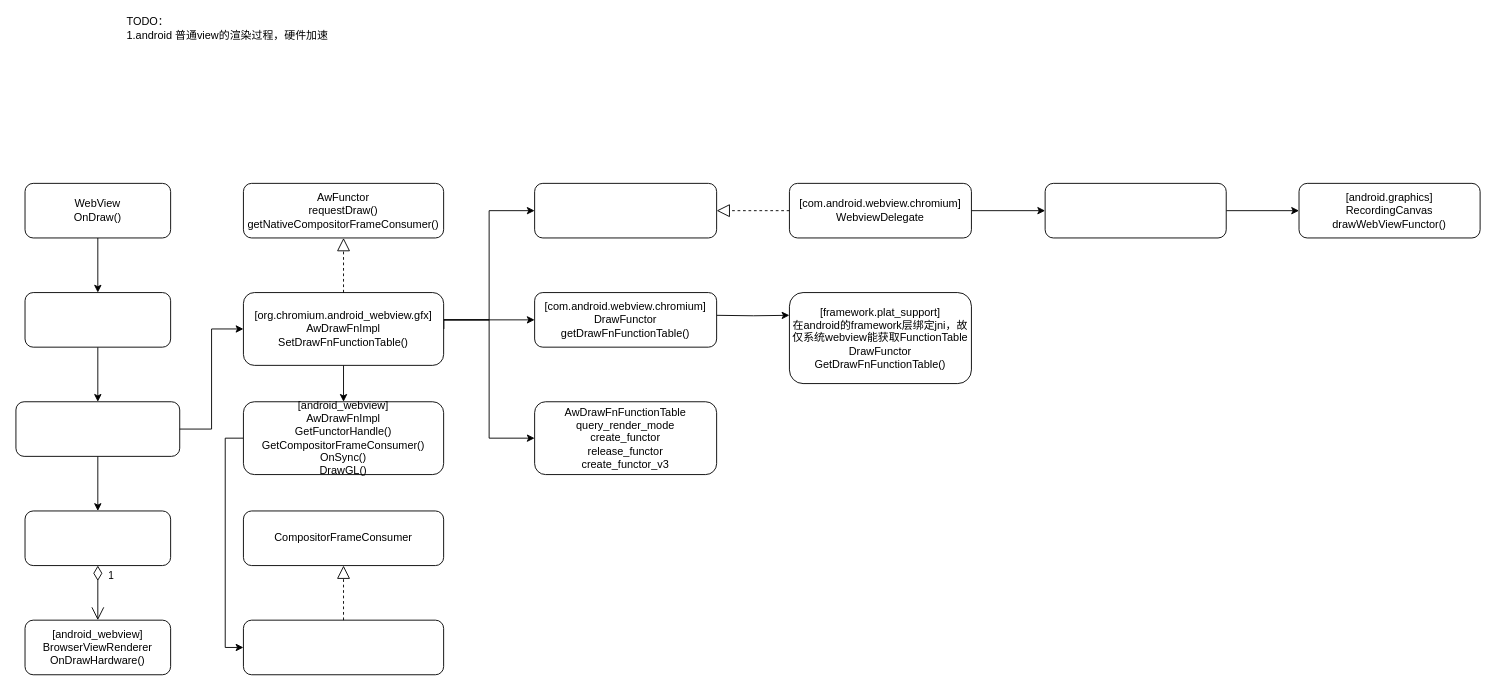
Image size: 1496x691. Some labels were removed from this diagram. Each missing label, with the centre of its shape:
[android.webkit.webview] WebViewDelegate drawWebViewFunctor(): the point at 1135,210
[android_webview] AwContents OnDraw(): the point at 97,538
[org.chromium.android_webview] AwContents OnDraw() setFunctor(): the point at 97,428
DrawFnAccess 把create_functor返回functor插入至RecordingCanvas中 drawWebviewFunctor: the point at 625,210
RenderThreadManager: the point at 343,647
WebViewChromium OnDraw(): the point at 97,319
